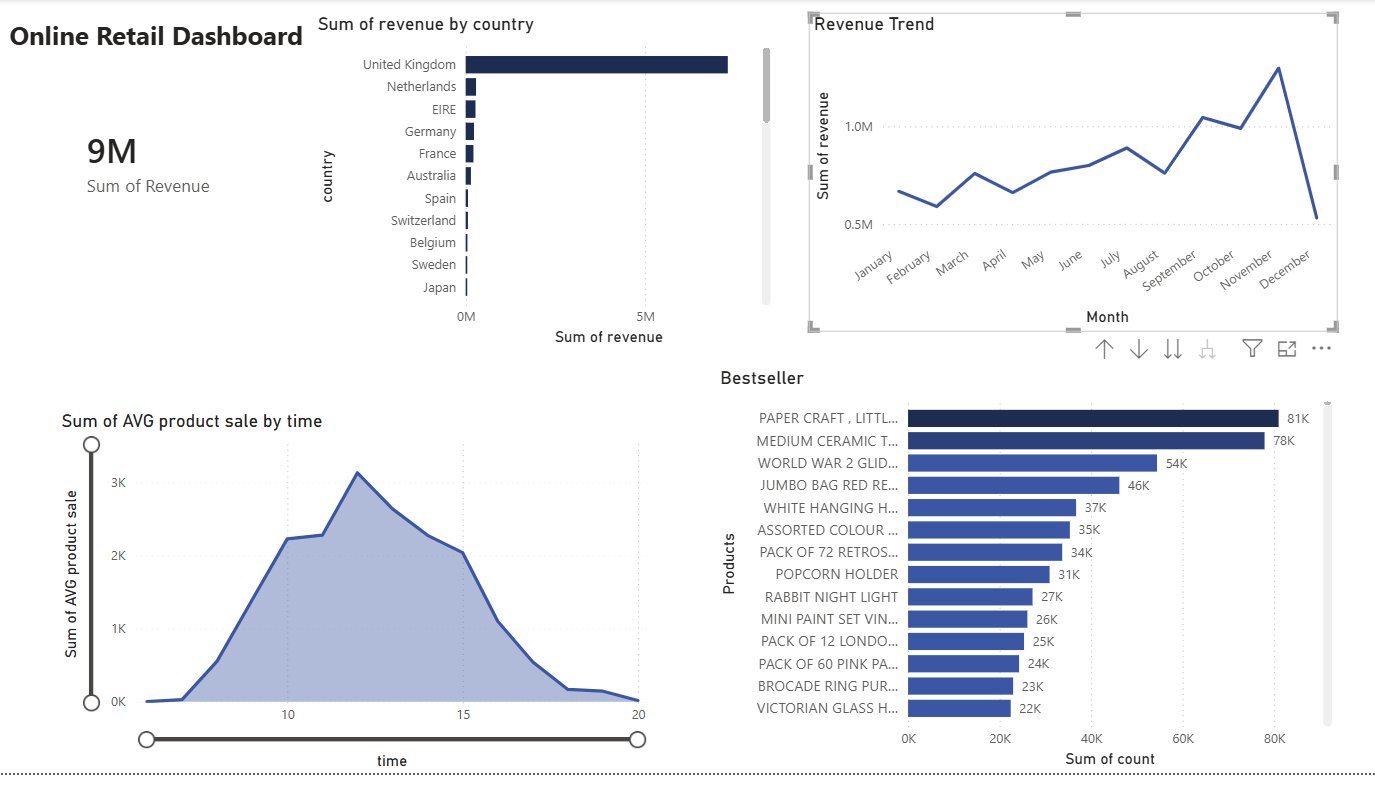

The page's visual inventory and layout, read from the dashboard file:
{"tool":"powerbi","page":{"name":"Page 1","canvas":[1280,720],"ordinal":0},"visuals":[{"type":"clusteredBarChart","fields":{"Category":["Countries Revenue.country"],"Y":["Sum(Countries Revenue.revenue)"]},"box":[290.7,12.8,431.4,315.1],"z":0},{"type":"cardVisual","title":"Total Revenue ","fields":{"Data":["Sum(Total Revenue.Revenue)"]},"box":[52.3,50,216.3,181.4],"z":1000},{"type":"lineChart","title":"Revenue Trend ","fields":{"Category":["momgrowth.months.Variation.Date Hierarchy.Year","momgrowth.months.Variation.Date Hierarchy.Quarter","momgrowth.months.Variation.Date Hierarchy.Month","momgrowth.months.Variation.Date Hierarchy.Day"],"Y":["Sum(momgrowth.revenue)"]},"box":[752.3,12.8,491.9,296.5],"z":2000},{"type":"areaChart","fields":{"Category":["sales by time of day.Column1"],"Y":["Sum(sales by time of day.Column2)"]},"box":[52.3,382.6,555.8,338.4],"z":3000},{"type":"barChart","title":"Bestseller","fields":{"Category":["Top Products.Column1"],"Y":["Sum(Top Products.count)"]},"box":[665.1,341.9,579.1,377.9],"z":4000},{"type":"textbox","box":[0,12.8,290.7,74.4],"z":5000},{"type":"tableEx","box":[400,309.3,300,300],"z":6000},{"type":"cardVisual","fields":{"Data":["customers.% of Customer At Risk"]},"box":[65.1,255.8,225.6,104.7],"z":6001}]}

Visuals, with their boxes in screenshot pixels (x1, y1, x2, y2), scaled from the page's 1280x720 canvas onto the 1375x794 screenshot:
clusteredBarChart - Countries Revenue.country x Sum(Countries Revenue.revenue): <region>312, 14, 776, 362</region>
"Total Revenue " cardVisual: <region>56, 55, 289, 255</region>
"Revenue Trend " lineChart: <region>808, 14, 1337, 341</region>
areaChart - sales by time of day.Column1 x Sum(sales by time of day.Column2): <region>56, 422, 653, 793</region>
"Bestseller" barChart: <region>714, 377, 1337, 793</region>
textbox: <region>0, 14, 312, 96</region>
tableEx: <region>430, 341, 752, 672</region>
cardVisual - customers.% of Customer At Risk: <region>70, 282, 312, 398</region>
